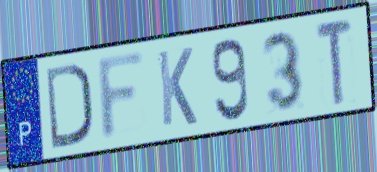3: (261, 27, 306, 112)
9: (211, 37, 251, 122)
D: (43, 60, 95, 152)
F: (95, 47, 148, 146)
K: (155, 45, 199, 130)
T: (313, 17, 356, 108)
